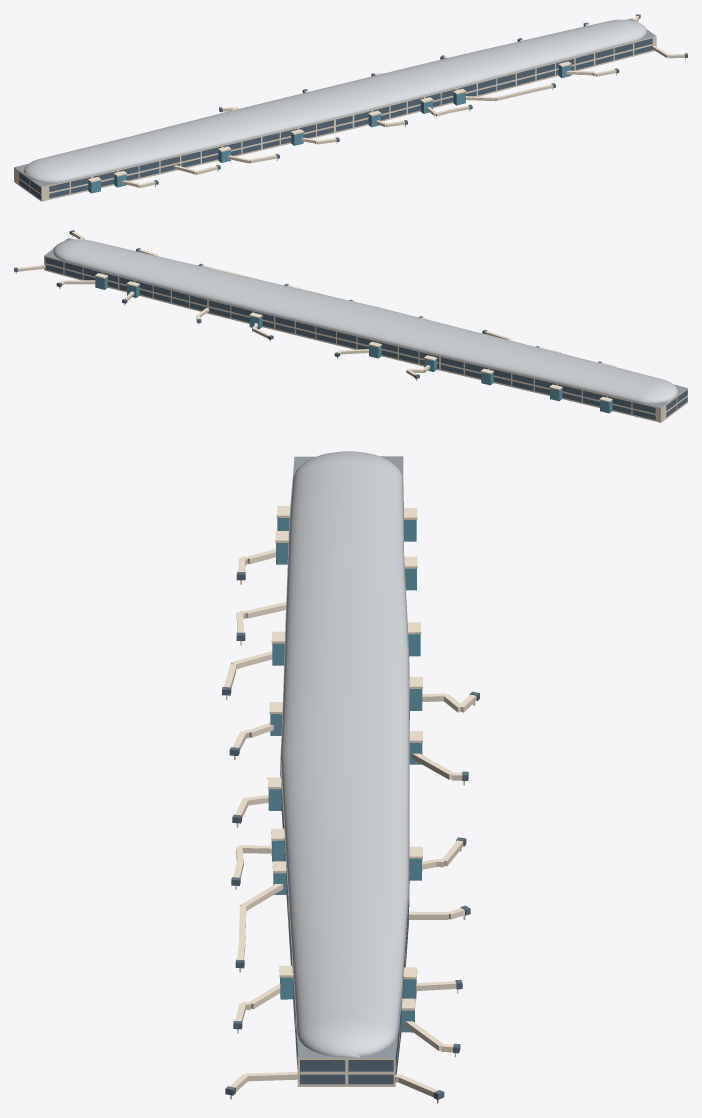
The model's file is dubai-dxb-concourse-c.detail.glb.
3 renders of one model, top to bottom at view 1: azimuth 30°, elevation 25°; view 2: azimuth 150°, elevation 25°; view 3: azimuth 270°, elevation 25°, orthographic. The views are drawn at different scales.
Visible parts, largest first — view 1: Dubai International Airport Concourse C; view 2: Dubai International Airport Concourse C; view 3: Dubai International Airport Concourse C.
Part boxes in pixels (x1,y1,x2,y2): Dubai International Airport Concourse C: (14, 14, 687, 201); Dubai International Airport Concourse C: (14, 230, 687, 422); Dubai International Airport Concourse C: (222, 451, 479, 1103).
Bounding box in the file's own units: 817 × 28 × 144.
